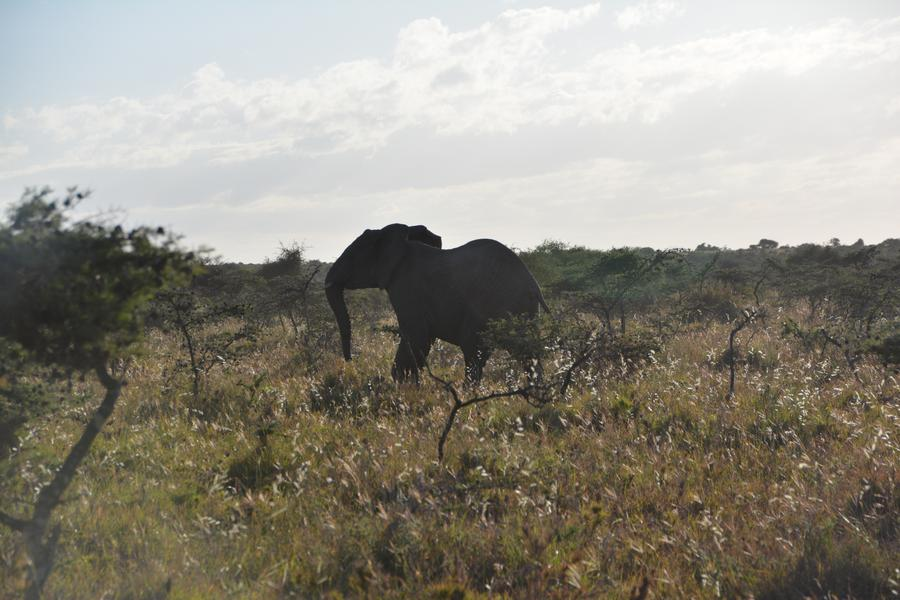elephant: (330, 224, 547, 370)
